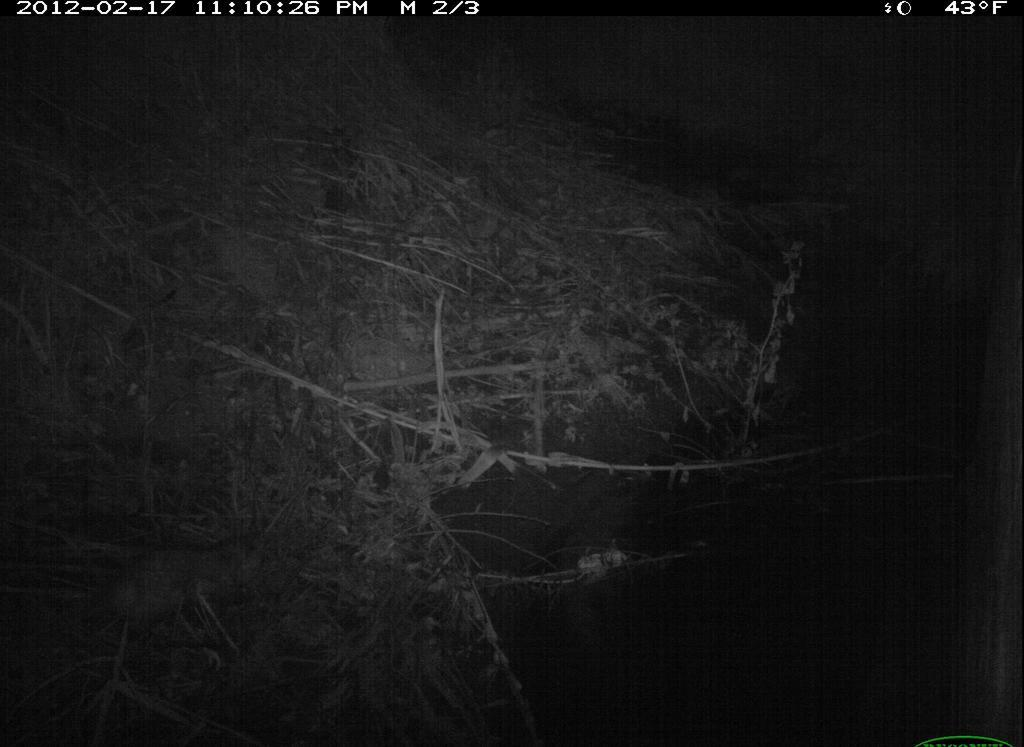opossum: (58, 529, 276, 643)
